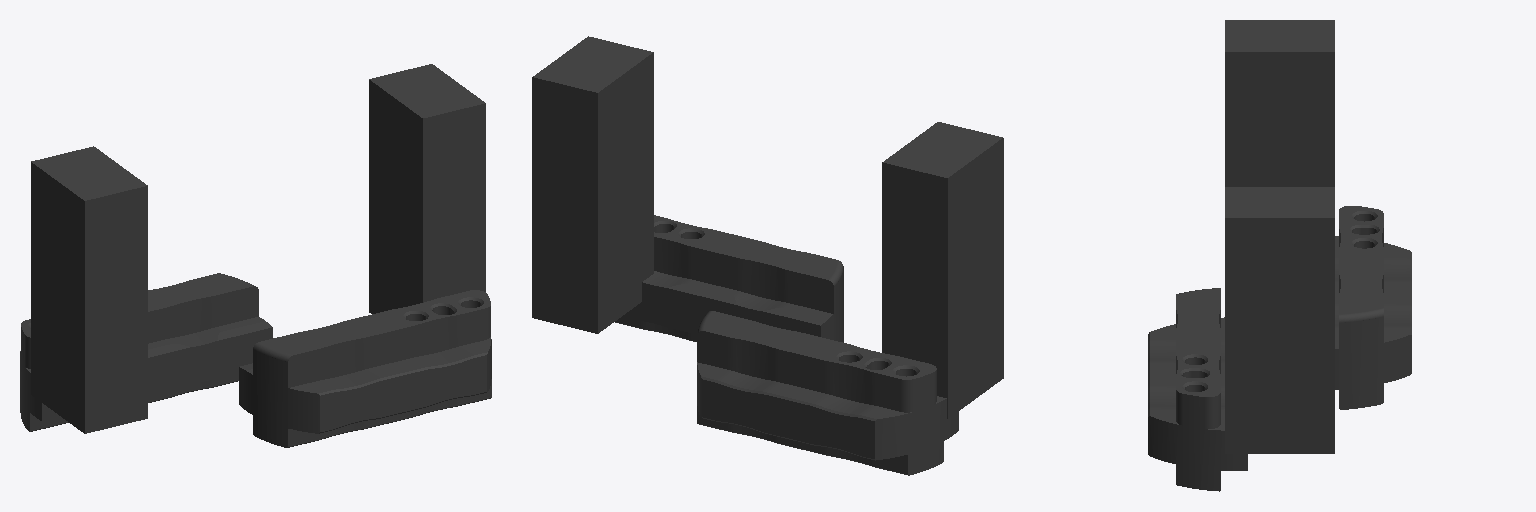
The robot description file, URDF, robot "pgc140":
<?xml version="1.0" ?>
<!-- =================================================================================== -->
<!-- |    This document was autogenerated by xacro from [local-path]/mojer/catkin_ws/src/acroba_ros/acroba_resources/urdf/pgc140.xacro | -->
<!-- |    EDITING THIS FILE BY HAND IS NOT RECOMMENDED                                 | -->
<!-- =================================================================================== -->
<robot name="pgc140">
  <material name="pgc_dark_grey">
    <color rgba="0.3 0.3 0.3 1.0"/>
  </material>
  <material name="pgc_grey">
    <color rgba="0.45 0.45 0.45 1.0"/>
  </material>
  <!-- 0.6s openning time-->
  <!-- Finger and body intersect for 1.3mm this is taking into account in finger_length-->
  <link name="base_tool">
    <visual>
      <origin rpy="0 0 0" xyz="0.0 0.0 0.0"/>
      <geometry>
        <mesh filename="package://acroba_resources/meshes/pgc140/body_centered.dae" scale="0.001 0.001 0.001"/>
      </geometry>
      <material name="pgc_grey"/>
    </visual>
    <collision>
      <origin rpy="0 0 0" xyz="0.0 0.0 0.0"/>
      <geometry>
        <mesh filename="package://acroba_resources/meshes/pgc140/body_centered.dae" scale="0.001 0.001 0.001"/>
      </geometry>
    </collision>
    <inertial>
      <mass value="1"/>
      <inertia ixx="0.001151" ixy="0.0" ixz="0.0" iyy="0.001151" iyz="0.0" izz="0.000117"/>
    </inertial>
  </link>
  <link name="base_finger_1">
    <visual>
      <origin rpy="0 0 0" xyz="0.0 0.0 0.0"/>
      <geometry>
        <mesh filename="package://acroba_resources/meshes/pgc140/finger_holder_1_centered.dae" scale="0.001 0.001 0.001"/>
      </geometry>
      <material name="pgc_dark_grey"/>
    </visual>
    <collision>
      <origin rpy="0 0 0" xyz="0.0 0.0 0.0"/>
      <geometry>
        <mesh filename="package://acroba_resources/meshes/pgc140/finger_holder_1_centered.dae" scale="0.001 0.001 0.001"/>
      </geometry>
    </collision>
    <inertial>
      <mass value="0.05"/>
      <inertia ixx="0.00037" ixy="0.0" ixz="0.0" iyy="0.00037" iyz="0.0" izz="0.000146"/>
    </inertial>
  </link>
  <link name="base_finger_2">
    <visual>
      <origin rpy="0 0 0" xyz="0.0 0.0 0.0"/>
      <geometry>
        <mesh filename="package://acroba_resources/meshes/pgc140/finger_holder_2_centered.dae" scale="0.001 0.001 0.001"/>
      </geometry>
      <material name="pgc_dark_grey"/>
    </visual>
    <collision>
      <origin rpy="0 0 0" xyz="0.0 0.0 0.0"/>
      <geometry>
        <mesh filename="package://acroba_resources/meshes/pgc140/finger_holder_2_centered.dae" scale="0.001 0.001 0.001"/>
      </geometry>
    </collision>
    <inertial>
      <mass value="0.05"/>
      <inertia ixx="0.00037" ixy="0.0" ixz="0.0" iyy="0.00037" iyz="0.0" izz="0.000146"/>
    </inertial>
  </link>
  <link name="finger_1">
    <visual>
      <origin rpy="0.0 0.0 0.0" xyz="0 0 0.02025"/>
      <geometry>
        <box size="0.0115 0.017 0.0405"/>
      </geometry>
      <material name="pgc_dark_grey"/>
    </visual>
    <collision>
      <origin rpy="0.0 0.0 0.0" xyz="0 0 0.02025"/>
      <geometry>
        <box size="0.0115 0.017 0.0405"/>
      </geometry>
    </collision>
    <inertial>
      <mass value="0.1"/>
      <inertia ixx="0.00037" ixy="0.0" ixz="0.0" iyy="0.00037" iyz="0.0" izz="0.000146"/>
    </inertial>
  </link>
  <link name="finger_2">
    <visual>
      <origin rpy="0.0 0.0 0.0" xyz="0 0 0.02025"/>
      <geometry>
        <box size="0.0115 0.017 0.0405"/>
      </geometry>
      <material name="pgc_dark_grey"/>
    </visual>
    <collision>
      <origin rpy="0.0 0.0 0.0" xyz="0 0 0.02025"/>
      <geometry>
        <box size="0.0115 0.017 0.0405"/>
      </geometry>
    </collision>
    <inertial>
      <mass value="1"/>
      <inertia ixx="0.00037" ixy="0.0" ixz="0.0" iyy="0.00037" iyz="0.0" izz="0.000146"/>
    </inertial>
  </link>
  <joint name="joint_base_finger_1" type="prismatic">
    <origin rpy="0 0 0" xyz="0 0 0"/>
    <parent link="base_tool"/>
    <child link="base_finger_1"/>
    <axis xyz="-1 0 0"/>
    <limit effort="140" lower="0" upper="0.025" velocity="0.04166666666666667"/>
  </joint>
  <joint name="joint_base_finger_2" type="prismatic">
    <origin rpy="0 0 0" xyz="0 0 0"/>
    <parent link="base_tool"/>
    <child link="base_finger_2"/>
    <axis xyz="1 0 0"/>
    <limit effort="140" lower="0" upper="0.025" velocity="0.04166666666666667"/>
  </joint>
  <joint name="joint_finger_1" type="fixed">
    <origin rpy="0 0 0" xyz="0.03075 0 0.0915"/>
    <parent link="base_finger_1"/>
    <child link="finger_1"/>
  </joint>
  <joint name="joint_finger_2" type="fixed">
    <origin rpy="0 0 0" xyz="-0.03075 0  0.0915"/>
    <parent link="base_finger_2"/>
    <child link="finger_2"/>
  </joint>
  --&gt;

  
  <link name="gripping_point"/>
  <joint name="joint_gripping" type="fixed">
    <origin rpy="0 0 0" xyz="0. 0 0.132"/>
    <parent link="base_tool"/>
    <child link="gripping_point"/>
  </joint>
  <!-- Add gazebo colors-->
  <gazebo reference="base_tool">
    <material>Gazebo/FlatBlack</material>
  </gazebo>
  <gazebo reference="base_finger_1">
    <material>Gazebo/FlatBlack</material>
  </gazebo>
  <gazebo reference="base_finger_2">
    <material>Gazebo/FlatBlack</material>
  </gazebo>
  <gazebo reference="finger_1">
    <material>Gazebo/FlatBlack</material>
  </gazebo>
  <gazebo reference="finger_2">
    <material>Gazebo/FlatBlack</material>
  </gazebo>
  <!-- Transmissions-->
  <transmission name="joint_finger1_trans">
    <type>transmission_interface/SimpleTransmission</type>
    <joint name="joint_base_finger_1">
      <hardwareInterface>hardware_interface/EffortJointInterface</hardwareInterface>
    </joint>
    <actuator name="joint_base_finger_1_motor">
      <hardwareInterface>hardware_interface/EffortJointInterface</hardwareInterface>
      <mechanicalReduction>1</mechanicalReduction>
    </actuator>
  </transmission>
  <transmission name="joint_finger2_trans">
    <type>transmission_interface/SimpleTransmission</type>
    <joint name="joint_base_finger_2">
      <hardwareInterface>hardware_interface/EffortJointInterface</hardwareInterface>
    </joint>
    <actuator name="joint_base_finger_2_motor">
      <hardwareInterface>hardware_interface/EffortJointInterface</hardwareInterface>
      <mechanicalReduction>1</mechanicalReduction>
    </actuator>
  </transmission>
  <disable_collision link1="wrist_3_link" link2="base_tool">
  </disable_collision>
  <!-- Disabling collision for gripper-->
  <disable_collision link1="base_tool" link2="base_finger_1">
  </disable_collision>
  <disable_collision link1="base_tool" link2="base_finger_2">
  </disable_collision>
  <disable_collision link1="base_finger_2" link2="base_finger_1">
  </disable_collision>
  <disable_collision link1="base_tool" link2="finger_1">
  </disable_collision>
  <disable_collision link1="base_tool" link2="finger_2">
  </disable_collision>
  <disable_collision link1="base_finger_2" link2="finger_2">
  </disable_collision>
  <disable_collision link1="base_finger_1" link2="finger_1">
  </disable_collision>
  <link name="world"/>
  <joint name="world" type="fixed">
    <origin rpy="0 0 0" xyz="0 0 0"/>
    <parent link="world"/>
    <child link="base_tool"/>
  </joint>
  <gazebo>
    <plugin filename="libgazebo_ros_control.so" name="gazebo_ros_control">
      </plugin>
  </gazebo>
</robot>

--- Render facts (derived) ---
The picture shows the robot from 3 angles, left to right: view 1: azimuth 30°, elevation 25°; view 2: azimuth 150°, elevation 25°; view 3: azimuth 270°, elevation 25°; orthographic projection.
Model pgc140 with 7 links and 6 joints (2 prismatic, 4 fixed), rooted at world, posed every joint at zero.
Visible links, largest first — view 1: finger_2, base_finger_1, finger_1, base_finger_2; view 2: finger_1, finger_2, base_finger_2, base_finger_1; view 3: finger_1, finger_2, base_finger_1, base_finger_2.
Link boxes in pixels (bbox=[...]): finger_2: bbox=[31, 146, 147, 433]; base_finger_1: bbox=[239, 290, 491, 447]; finger_1: bbox=[369, 64, 485, 313]; base_finger_2: bbox=[20, 273, 272, 431]; finger_1: bbox=[532, 36, 653, 333]; finger_2: bbox=[882, 122, 1003, 418]; base_finger_2: bbox=[697, 311, 958, 475]; base_finger_1: bbox=[615, 215, 843, 342]; finger_1: bbox=[1225, 187, 1334, 453]; finger_2: bbox=[1225, 20, 1334, 186]; base_finger_1: bbox=[1148, 288, 1247, 491]; base_finger_2: bbox=[1335, 206, 1411, 409].
Size in the robot's own frame: 0.073 by 0.0412 by 0.0475 metres.
2 mesh visuals loaded from 3 distinct referenced files (2 Collada DAE); not drawn: 1 (reference not matched to a file when rendering).
